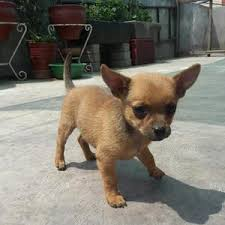chihuahua: (39, 44, 215, 210)
